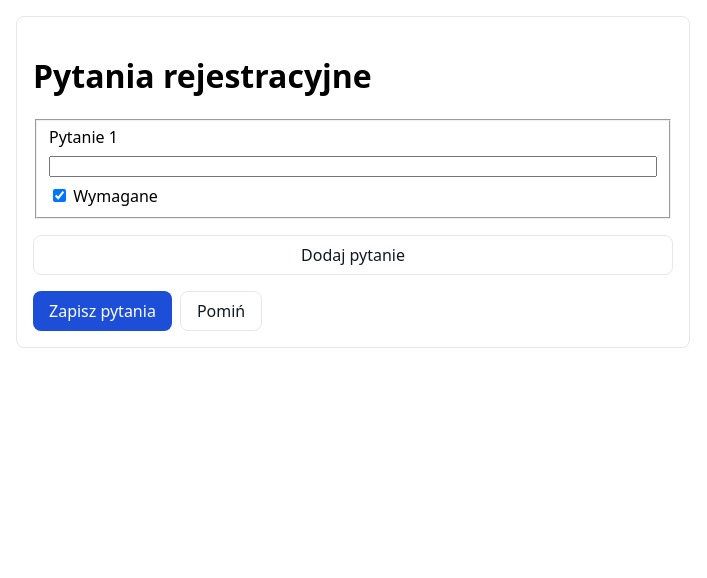
Test: RegistrationQuestionsSetupPage › uses contextual labels for removing questions
This screenshot has width=707, height=578.
Click the button "Dodaj pytanie".
click(353, 256)  # box [33, 236, 673, 276]
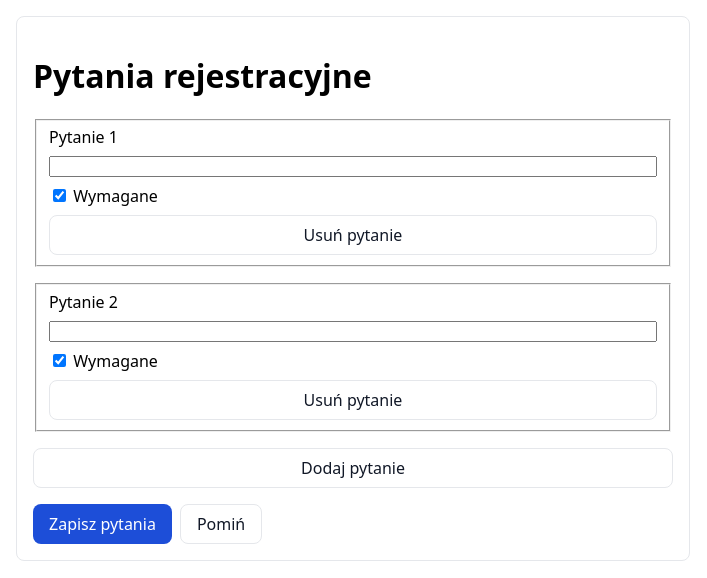
Now the button with aria-label "Usuń pytanie 1" is shown, box [49, 216, 657, 256]
Now the button with aria-label "Usuń pytanie 2" is shown, box [49, 380, 657, 420]
